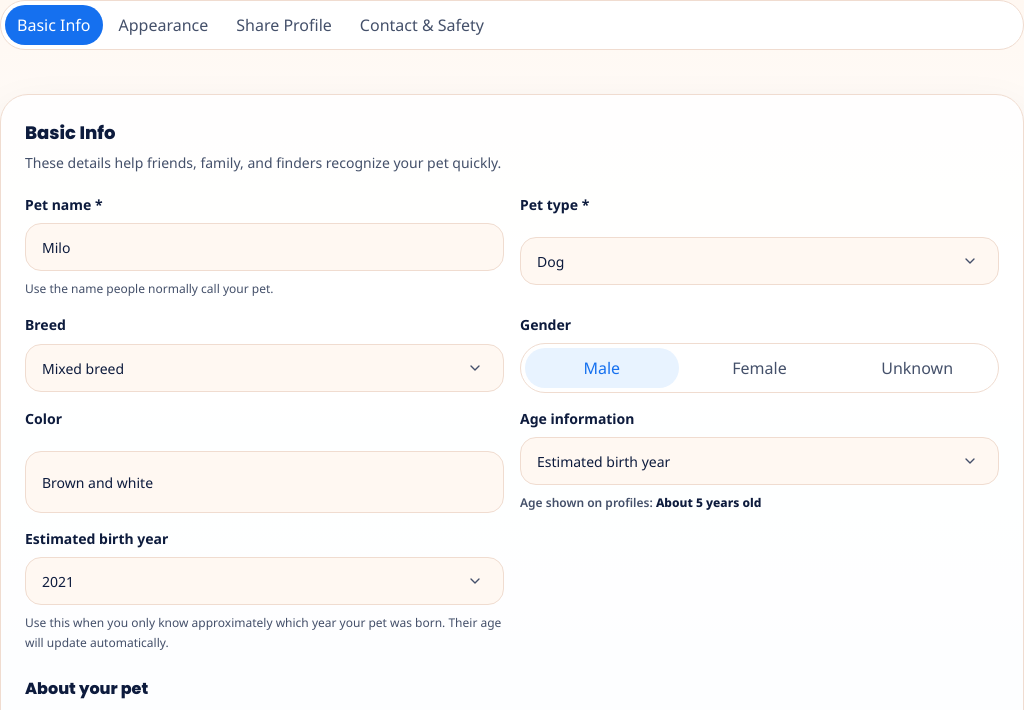
Scenario: Safety Profile contact warning › shows the warning panel and links Update Contact to owner settings for owner-default pets
Click the tab "Contact & Safety" at (422, 25), box [348,5,496,45]
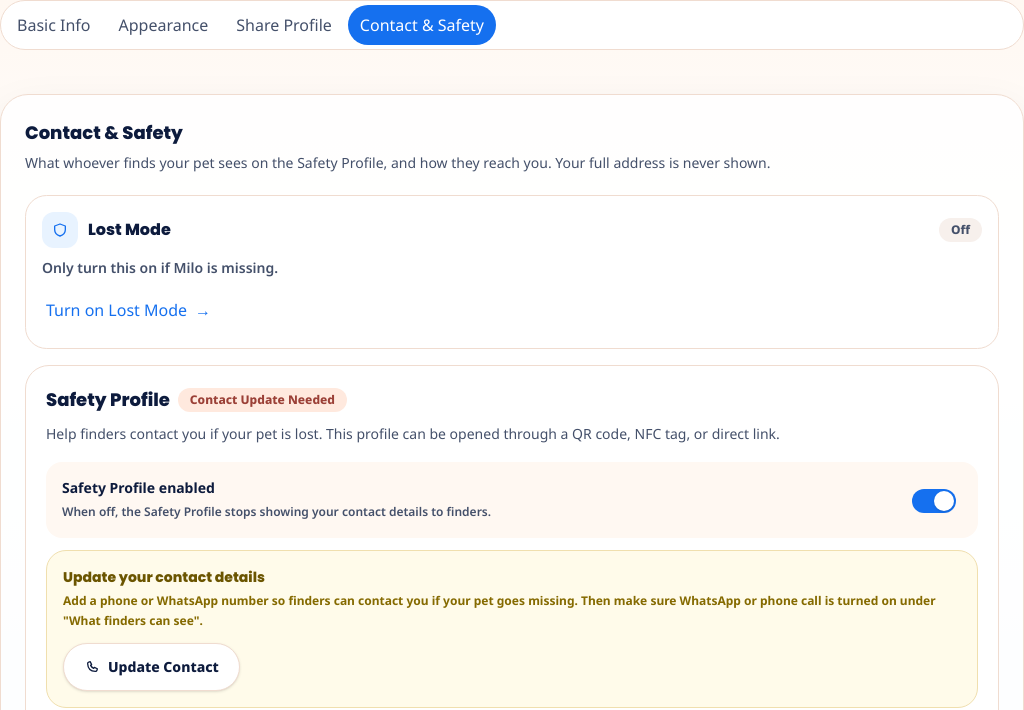
Expected: the text "Contact Update Needed" is shown, [178,388,347,412]
Expected: the heading "Update your contact details" is shown, [63,567,265,587]
